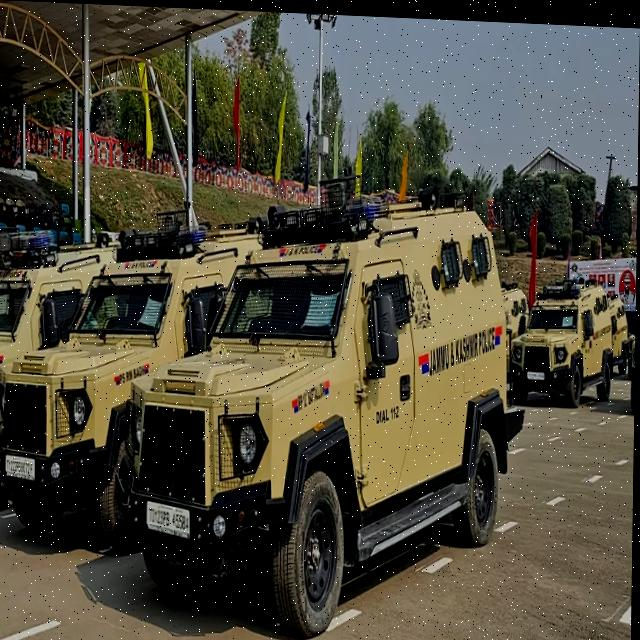plate: (146, 495, 195, 540), (2, 452, 41, 484), (528, 366, 547, 379)
